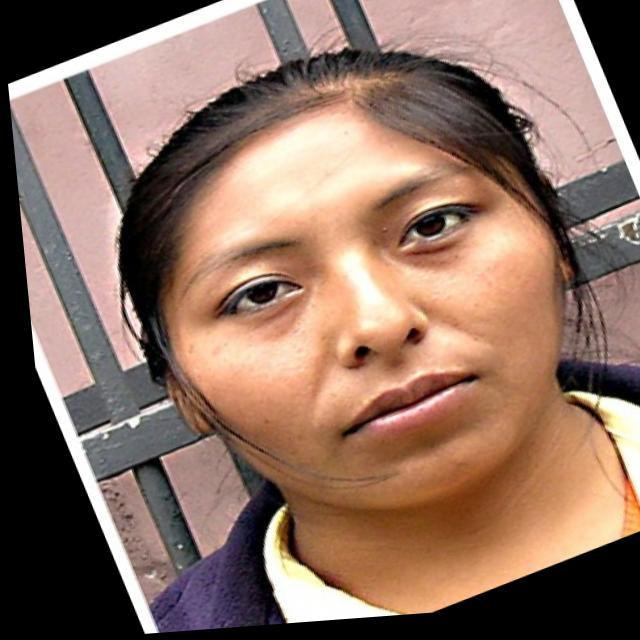Nonhelmet: (122, 32, 580, 524)
